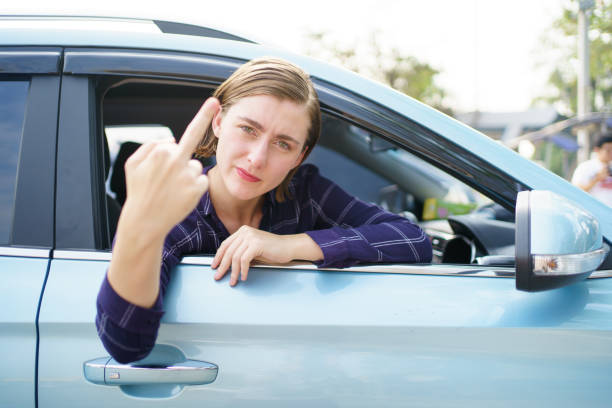insulting_gesture: (121, 95, 223, 232)
